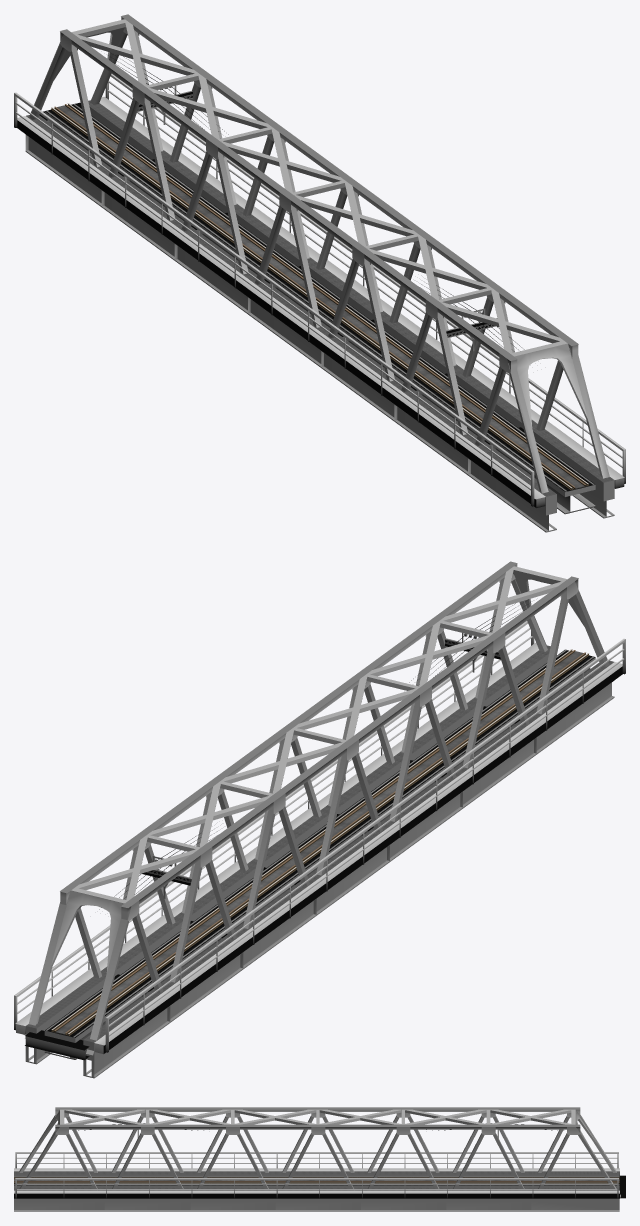
File: NK_1RAIL_TRAS.glb
The picture shows the model from 3 angles, top to bottom: view 1: azimuth 30°, elevation 25°; view 2: azimuth 150°, elevation 25°; view 3: azimuth 270°, elevation 25°; orthographic projection. The views are drawn at different scales.
Parts seen in each view (by area): view 1: obj19; view 2: obj19; view 3: obj19.
Boxes of the visible parts, bbox=[...] form: obj19: bbox=[14, 14, 625, 532]; obj19: bbox=[14, 561, 625, 1078]; obj19: bbox=[14, 1107, 625, 1211].
Bounding box in the file's own units: 19.97 × 29.6 × 194.
7 materials, 7 textured.
